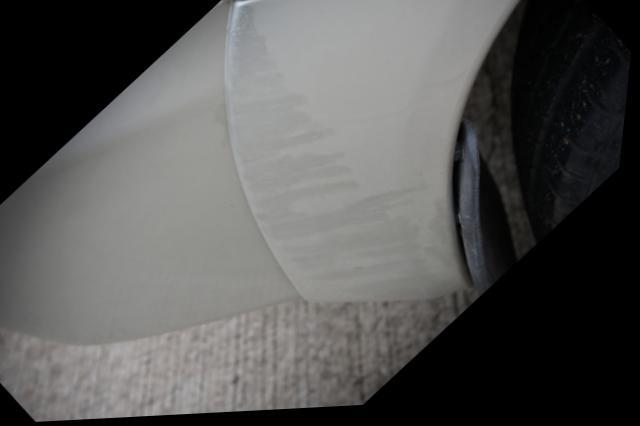rub: (227, 5, 472, 308)
